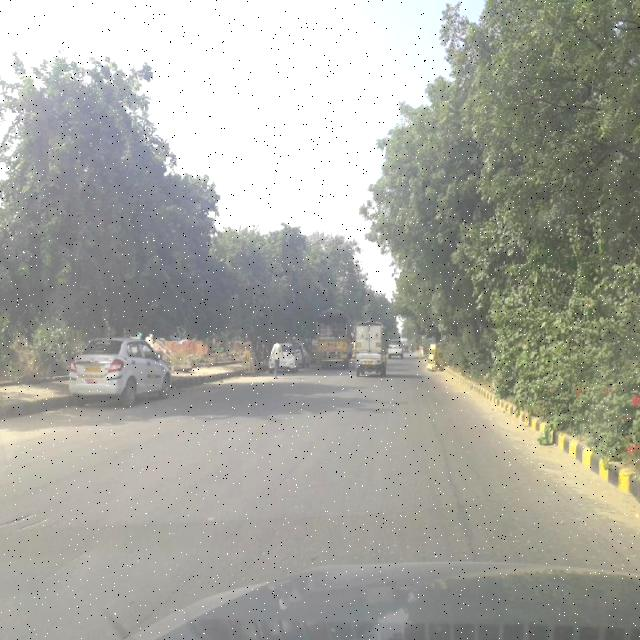D00: (0, 504, 84, 547)
